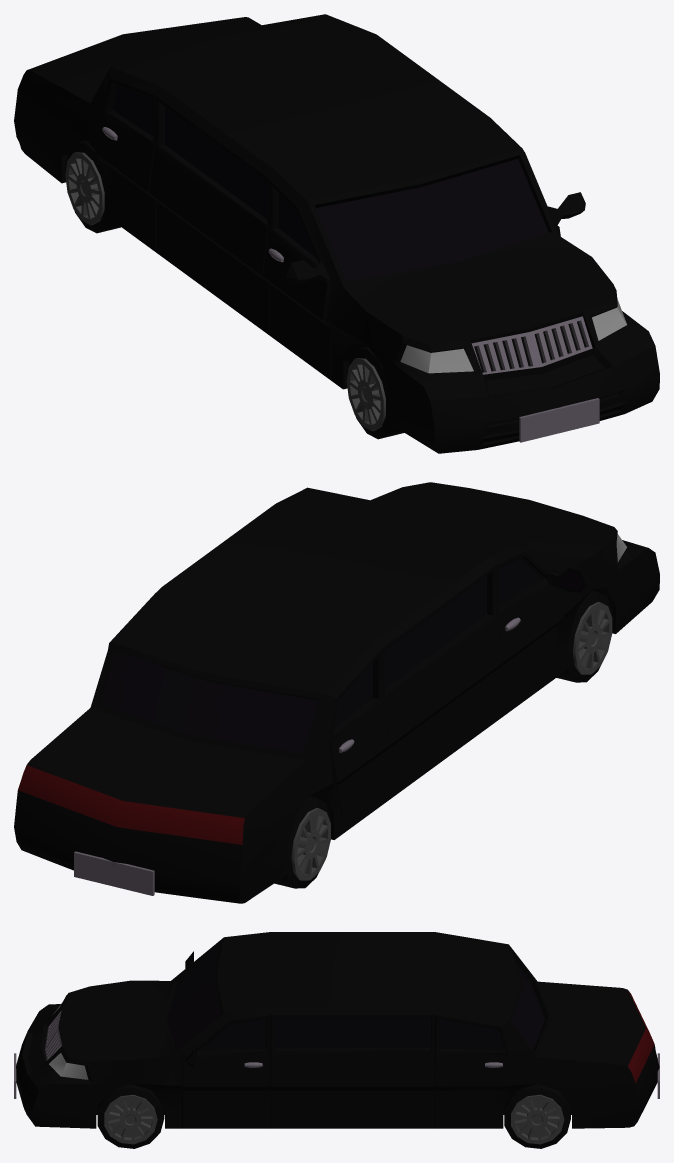
The picture shows the model from 3 angles, top to bottom: view 1: azimuth 30°, elevation 25°; view 2: azimuth 150°, elevation 25°; view 3: azimuth 270°, elevation 25°; orthographic projection. The views are drawn at different scales.
Parts seen in each view (by area): view 1: 차체, 바퀴1, 바퀴3; view 2: 차체, 바퀴1, 바퀴3; view 3: 차체, 바퀴2, 바퀴4.
Part boxes in pixels (box(x1,y1,x2,y2)): 차체: box(14, 14, 659, 453); 바퀴1: box(346, 346, 404, 439); 바퀴3: box(65, 140, 120, 233); 차체: box(14, 482, 659, 903); 바퀴1: box(556, 590, 612, 682); 바퀴3: box(274, 796, 330, 888); 차체: box(14, 932, 659, 1128); 바퀴2: box(97, 1084, 164, 1148); 바퀴4: box(504, 1084, 570, 1148).
Bounding box in the file's own units: 106 × 65.41 × 273.
